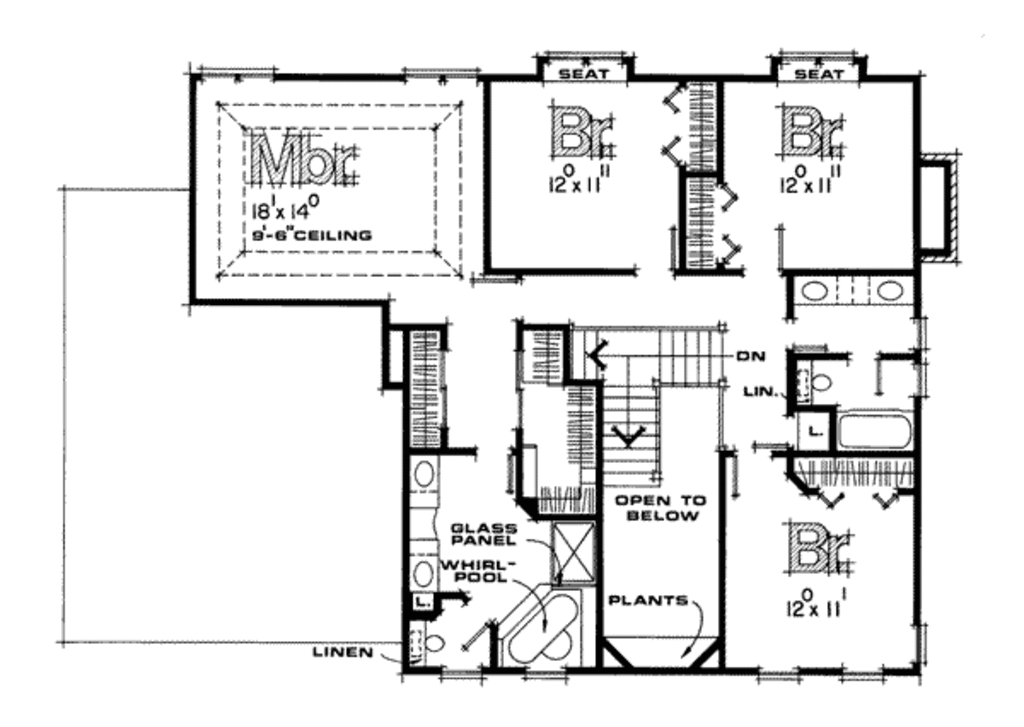large_sink: (404, 617, 444, 670), (794, 357, 838, 404)
small_sink: (791, 270, 915, 309), (400, 536, 446, 593), (406, 454, 448, 511)
stairs: (562, 329, 725, 486), (400, 322, 451, 460)
tub: (507, 592, 582, 671), (833, 413, 922, 456)
window: (909, 309, 933, 407), (198, 61, 279, 86), (394, 63, 486, 85), (835, 665, 887, 684), (913, 618, 930, 664), (752, 673, 803, 687), (525, 666, 579, 679)
